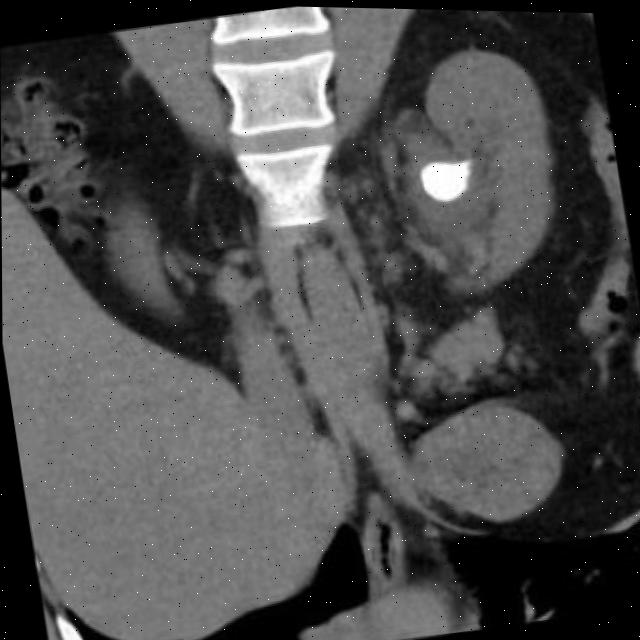Tas_Var: (413, 141, 487, 209)
